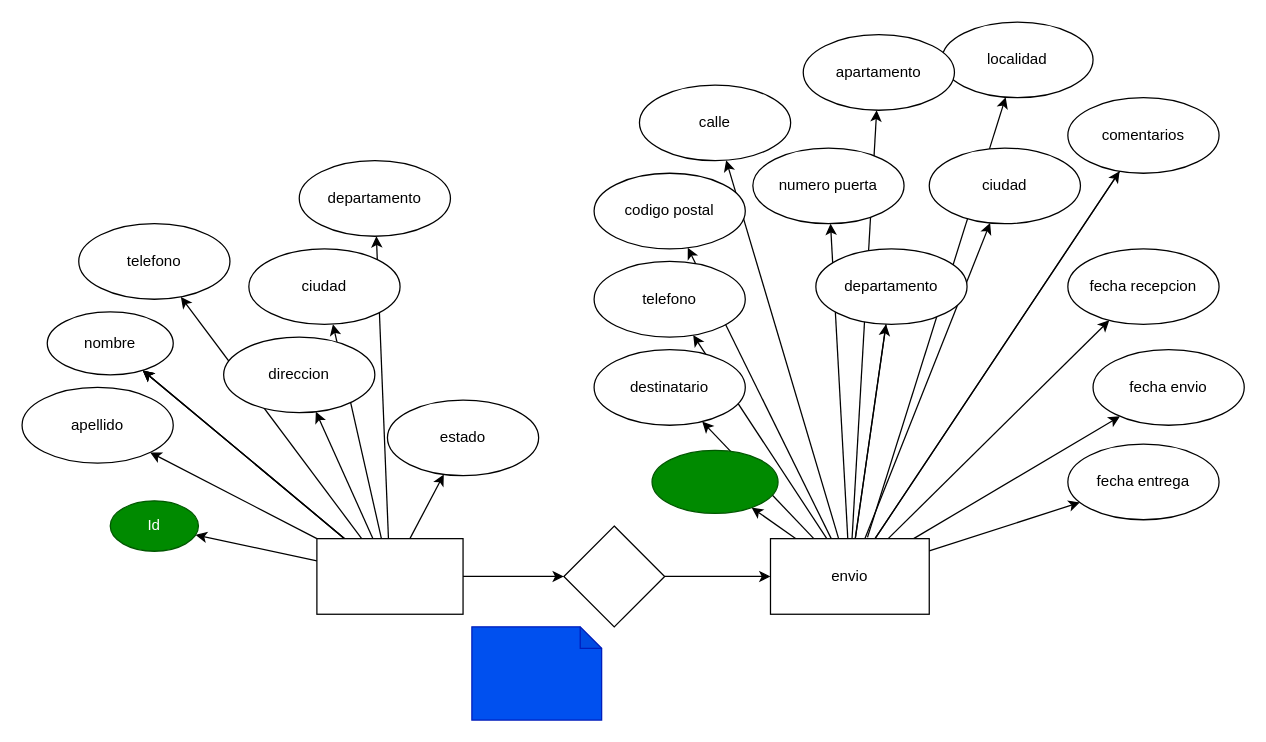
The diagram is 1266 pixels wide and 742 high, and some of its shapes have lost their labels. The shapes that lost their labels are listed below. From the top down, each one's centre as x and y in pixels, then its label:
At point 714,481: "codigo".
At point 389,575: "cliente".
At point 536,673: "cliente envia paquete".
